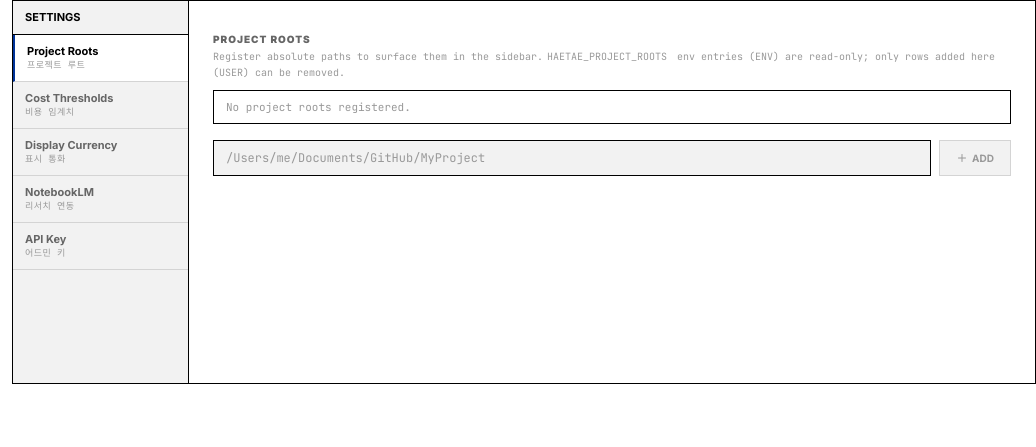
SettingsView — master/detail nav › 표시 통화 클릭 시 우측에 통화 패널 (실시간 환율) 이 뜬다
The image size is (1036, 447).
Click the button "Display Currency 표시 통화". click: (100, 152)
box: x1=13 y1=128 x2=188 y2=176
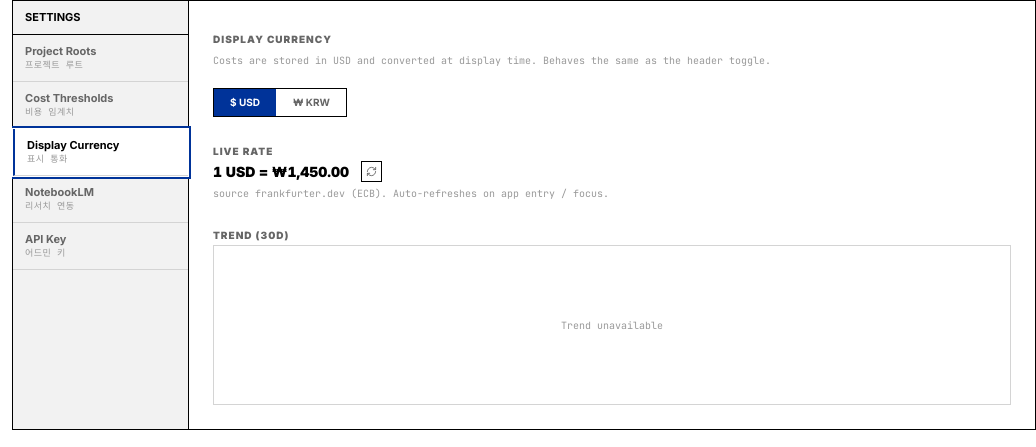
expect the field with placeholder "Documents/GitHub" is not shown: met
expect the text "Live Rate" is shown: met, box x1=213 y1=145 x2=273 y2=157
expect the text "1 USD = ₩1,450.00" is shown: met, box x1=213 y1=161 x2=349 y2=182
